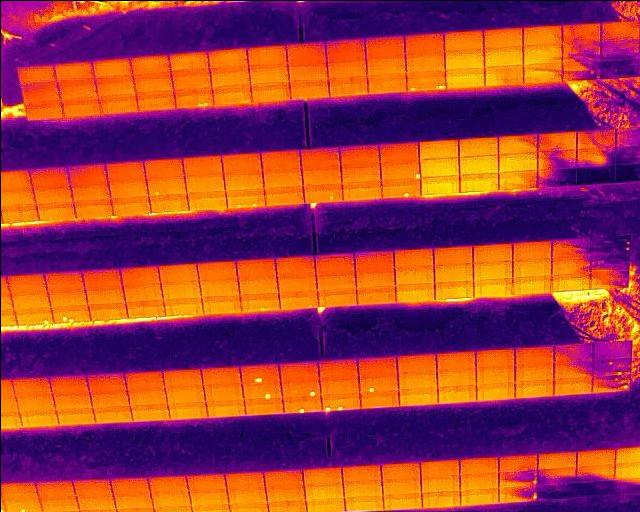Cell: (146, 175, 185, 195), (238, 294, 279, 313), (304, 182, 342, 202), (380, 160, 420, 179), (498, 484, 537, 503), (239, 364, 279, 382), (381, 178, 420, 196), (241, 381, 282, 398), (359, 375, 398, 392), (280, 395, 321, 411), (13, 307, 52, 323), (499, 468, 537, 484), (279, 381, 319, 396), (4, 497, 39, 512)
Cell-Multi: (405, 69, 444, 91), (226, 188, 265, 207), (174, 87, 212, 106), (590, 234, 630, 251), (591, 358, 630, 375), (321, 394, 360, 410), (591, 374, 629, 390), (50, 307, 91, 321)
No-Anomaly: (523, 61, 562, 84), (365, 36, 405, 57), (286, 42, 326, 63), (483, 26, 523, 47), (289, 78, 330, 98), (183, 154, 222, 175), (223, 170, 263, 190), (57, 77, 97, 97), (249, 81, 289, 101), (326, 38, 366, 58), (246, 44, 286, 64), (67, 163, 105, 184), (80, 270, 122, 289), (211, 65, 249, 86), (342, 180, 381, 200), (339, 143, 378, 163), (301, 145, 340, 165), (212, 85, 251, 105), (445, 67, 484, 87), (171, 68, 210, 88), (484, 45, 523, 65), (523, 24, 562, 44), (45, 273, 86, 292), (156, 264, 199, 282), (419, 139, 459, 158), (302, 164, 342, 183), (421, 156, 459, 176), (378, 141, 418, 160), (197, 262, 237, 281), (395, 283, 435, 302), (511, 275, 551, 294), (20, 81, 58, 101), (328, 76, 368, 95), (367, 73, 405, 93), (133, 72, 171, 92), (187, 190, 226, 209), (111, 195, 150, 214), (264, 186, 303, 205), (263, 167, 302, 186), (458, 136, 497, 155), (475, 349, 514, 368), (278, 289, 317, 308), (484, 65, 523, 84), (249, 63, 288, 82), (405, 33, 444, 52), (278, 362, 319, 380), (275, 257, 316, 275), (4, 274, 45, 292), (207, 47, 248, 65), (61, 97, 99, 116), (222, 153, 260, 172), (99, 95, 137, 114), (136, 92, 174, 111), (552, 270, 590, 289), (201, 294, 239, 313), (95, 76, 133, 95), (131, 54, 169, 73), (433, 247, 473, 265), (497, 153, 537, 171), (260, 150, 300, 168), (396, 353, 436, 371), (236, 260, 276, 278), (512, 257, 552, 275), (119, 267, 159, 285), (405, 52, 445, 70), (513, 377, 555, 394), (74, 198, 111, 217), (109, 179, 148, 197), (143, 158, 182, 176), (459, 172, 498, 190), (341, 163, 380, 181), (459, 156, 498, 174), (445, 50, 484, 68), (523, 44, 562, 62), (445, 32, 484, 50), (354, 254, 395, 271), (316, 360, 357, 377), (26, 100, 62, 119), (30, 167, 68, 185), (460, 486, 498, 504), (17, 64, 55, 82), (473, 243, 513, 260), (512, 239, 552, 256), (47, 376, 87, 393), (397, 372, 437, 389), (163, 368, 203, 385), (357, 357, 397, 374), (382, 492, 422, 509), (204, 398, 244, 415), (162, 297, 202, 314), (91, 59, 131, 76), (394, 267, 434, 284), (288, 64, 328, 81), (365, 56, 405, 73), (199, 367, 241, 383), (186, 172, 223, 190), (37, 201, 74, 219), (72, 182, 109, 200), (107, 161, 144, 179), (394, 249, 433, 266), (498, 171, 537, 188), (315, 256, 354, 273), (14, 393, 53, 410), (89, 389, 128, 406), (473, 277, 512, 294), (437, 384, 476, 401), (327, 58, 366, 75), (85, 373, 126, 389), (397, 388, 438, 404), (316, 273, 357, 289), (121, 285, 162, 301), (355, 286, 396, 302), (159, 282, 200, 298), (202, 383, 243, 399), (420, 177, 458, 194), (421, 474, 459, 491), (33, 185, 71, 202), (475, 381, 513, 398), (381, 461, 419, 478), (54, 61, 92, 78), (38, 494, 76, 511), (124, 371, 164, 387), (475, 367, 515, 383), (436, 352, 476, 368), (128, 404, 168, 420), (316, 289, 356, 305), (164, 386, 204, 402), (9, 292, 49, 308), (12, 378, 52, 394), (169, 51, 209, 67), (55, 407, 95, 423), (18, 410, 58, 426), (149, 195, 188, 211), (460, 471, 499, 487), (473, 261, 512, 277), (342, 479, 381, 495), (243, 398, 282, 414), (167, 401, 206, 417), (126, 388, 165, 404), (318, 377, 357, 393), (304, 482, 343, 498), (498, 453, 537, 469), (354, 271, 395, 286), (84, 289, 125, 304), (236, 279, 277, 294), (276, 275, 317, 290), (264, 469, 302, 485), (514, 362, 552, 378), (435, 266, 473, 282), (53, 392, 91, 408), (125, 301, 163, 317), (421, 459, 459, 475), (91, 405, 129, 421), (224, 471, 264, 486), (226, 486, 266, 501), (359, 392, 399, 407), (459, 457, 499, 472), (342, 464, 381, 479), (382, 478, 421, 493), (110, 477, 149, 492), (436, 369, 475, 384), (514, 346, 553, 361), (87, 302, 126, 317), (48, 292, 87, 307), (434, 282, 473, 297), (537, 452, 576, 467), (303, 467, 341, 482), (35, 479, 73, 494), (75, 494, 113, 509), (344, 496, 382, 511), (199, 281, 239, 295), (304, 498, 344, 512), (554, 377, 591, 392), (187, 474, 226, 488), (188, 488, 227, 502), (265, 485, 304, 499), (113, 492, 152, 506), (576, 450, 615, 464), (72, 479, 110, 493), (149, 476, 187, 490), (422, 491, 460, 505), (1, 482, 36, 497), (151, 490, 189, 503), (268, 499, 306, 512)
Shadowing: (551, 252, 590, 274), (537, 129, 576, 150), (599, 38, 638, 59), (562, 22, 600, 43), (590, 251, 630, 270), (599, 59, 640, 77), (552, 237, 590, 256), (561, 61, 599, 80), (497, 134, 537, 152), (576, 148, 614, 166), (561, 43, 599, 61), (553, 360, 592, 377), (600, 21, 639, 38), (576, 130, 614, 147), (576, 165, 614, 182), (590, 270, 628, 287), (536, 168, 576, 184), (536, 151, 576, 167), (553, 343, 593, 359), (593, 340, 630, 357), (537, 483, 576, 499), (538, 466, 576, 482), (576, 464, 614, 480), (576, 480, 614, 496)
